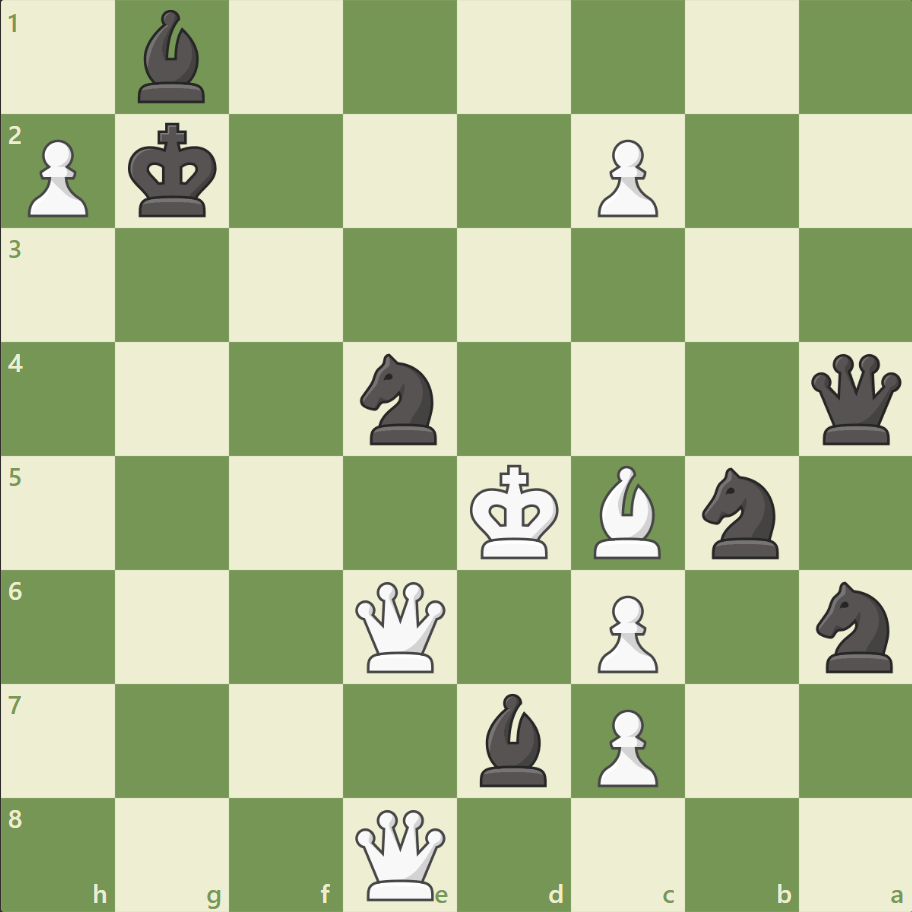B: (585, 460, 669, 563)
K: (465, 458, 565, 566)
P: (20, 132, 95, 223), (588, 700, 662, 791), (588, 586, 662, 677), (588, 132, 662, 223)
Q: (351, 576, 450, 676), (351, 804, 450, 903)
b: (471, 687, 555, 790), (131, 6, 215, 109)
k: (124, 117, 224, 225)
n: (351, 348, 449, 450), (692, 461, 789, 564), (806, 575, 903, 677)
q: (805, 349, 904, 449)
